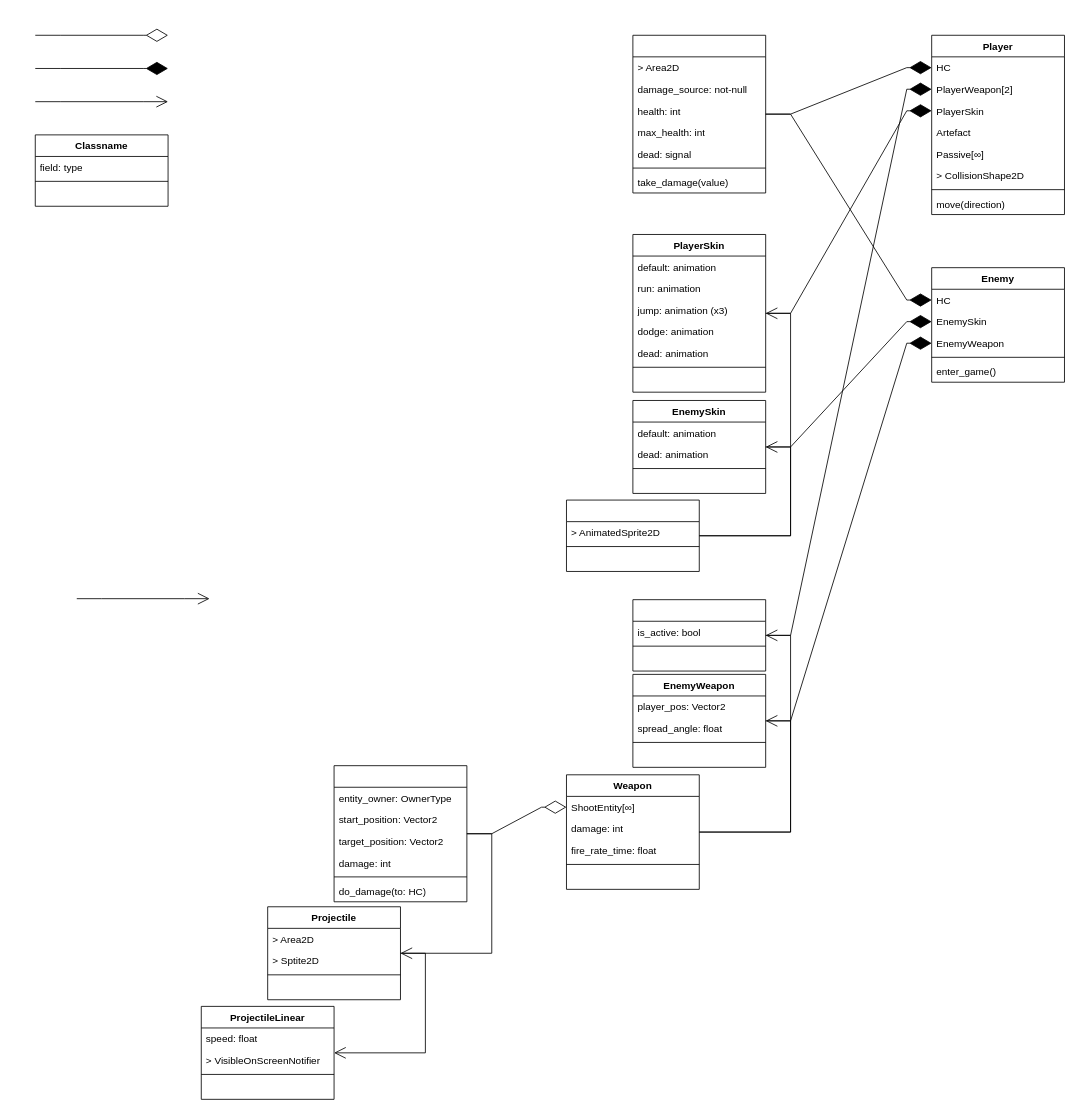
Some shapes in this 1079 by 1116 pixel diagram are drawn without their labels. Each missing label, with the box of its shape:
HealthComponent (HC): (632, 34, 766, 193)
PlayerWeapon: (632, 599, 766, 671)
ShootEntity: (333, 765, 467, 902)
Skin: (566, 499, 699, 571)
